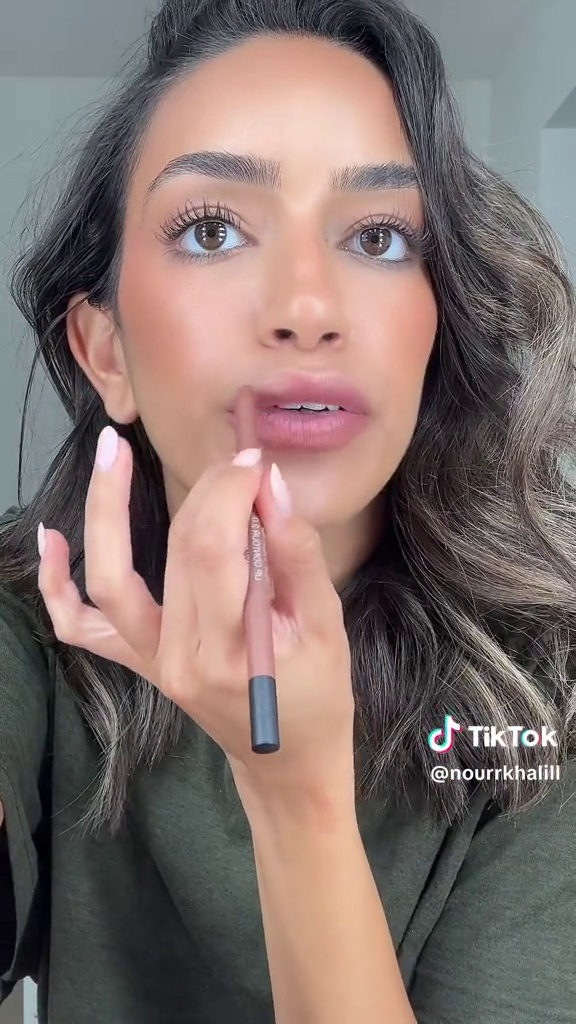train' :'yolo_data/train/images',: (224, 384, 290, 766)
